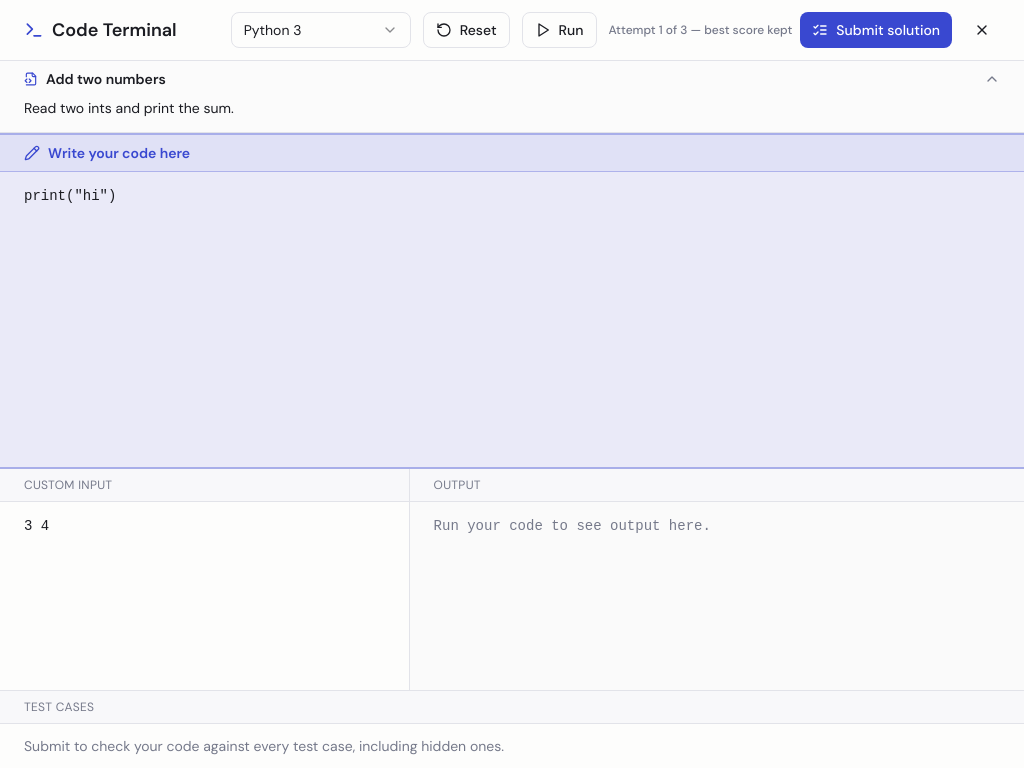
CodingTerminalWidget attempt cap (coding lab weeks) › locks Submit and keeps the best score when the cap is reached
Click the button "Submit solution".
click(876, 30)  # box x1=800 y1=12 x2=952 y2=48
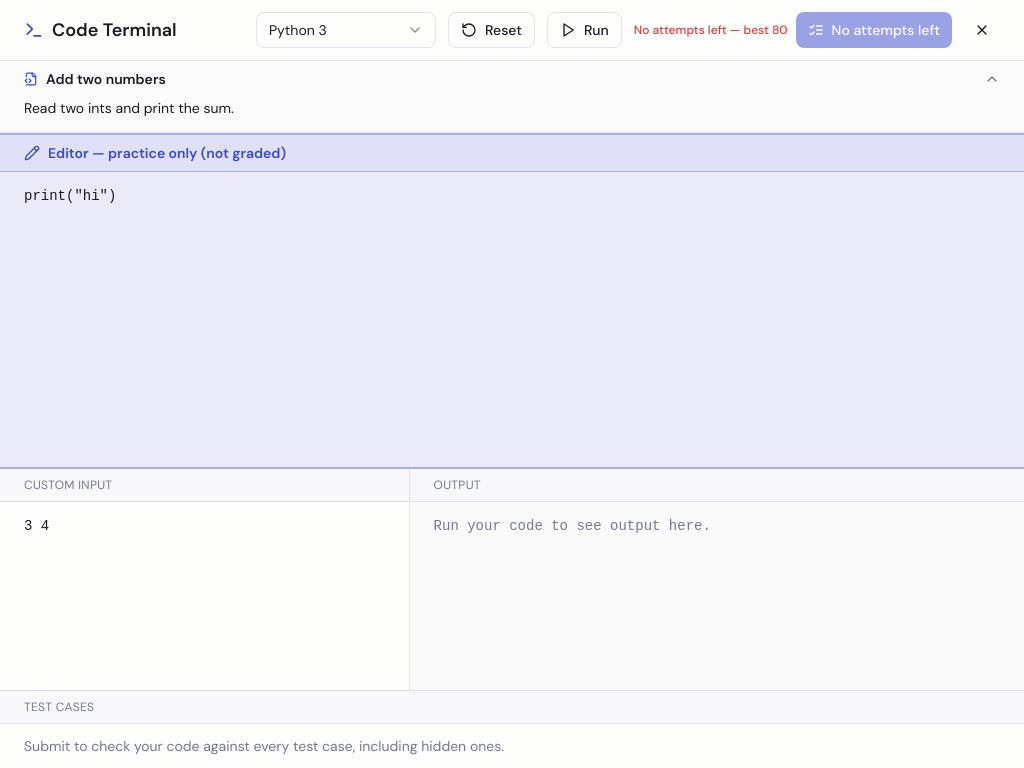
Expected: the button "No attempts left" is disabled, x1=796 y1=12 x2=952 y2=48
Expected: the text "No attempts left — best 80" is shown, x1=634 y1=22 x2=788 y2=38
